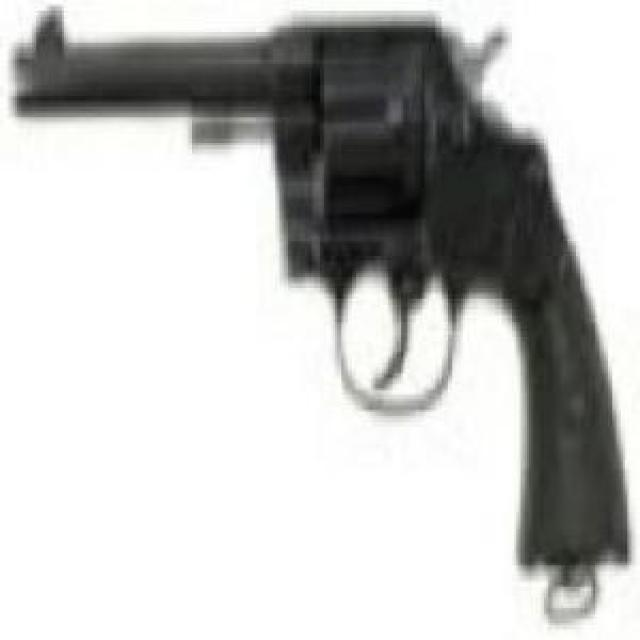pistol: (17, 4, 633, 560)
